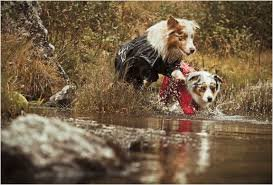dog: (117, 14, 197, 78), (160, 66, 221, 117)
